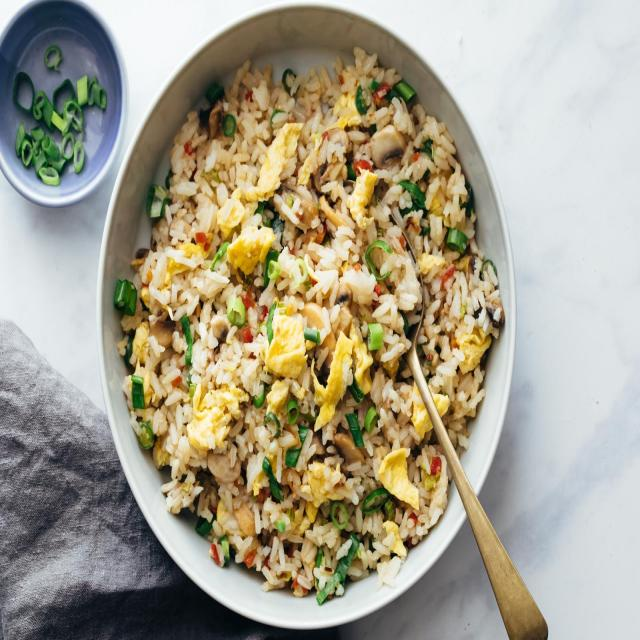Nasi Goreng: (113, 46, 505, 605)
